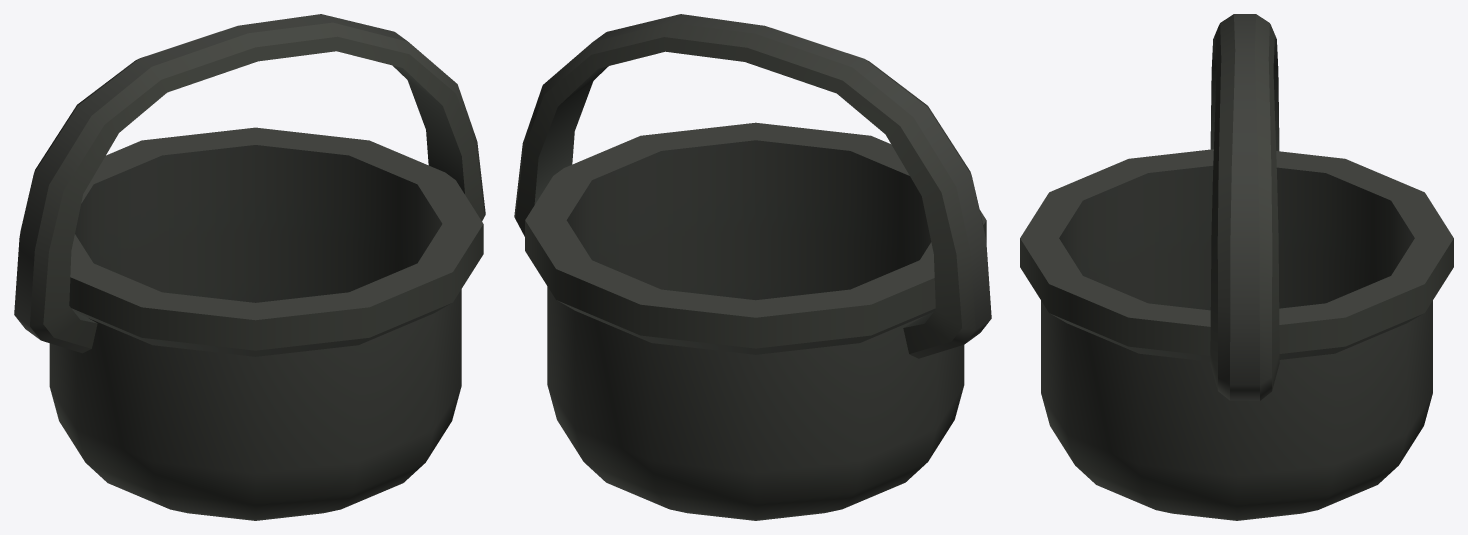
Rendered from SM_CampingPot.fbx.
3 renders of one model, left to right at view 1: azimuth 30°, elevation 25°; view 2: azimuth 150°, elevation 25°; view 3: azimuth 270°, elevation 25°, orthographic. The views are drawn at different scales.
Parts seen in each view (by area): view 1: SM_CampingPot; view 2: SM_CampingPot; view 3: SM_CampingPot.
Part boxes in pixels (box(x1,y1,x2,y2)): SM_CampingPot: box(14, 14, 485, 520); SM_CampingPot: box(514, 14, 991, 520); SM_CampingPot: box(1020, 14, 1453, 520).
Size of the model in its own units: 44.22 by 40.14 by 38.29.
